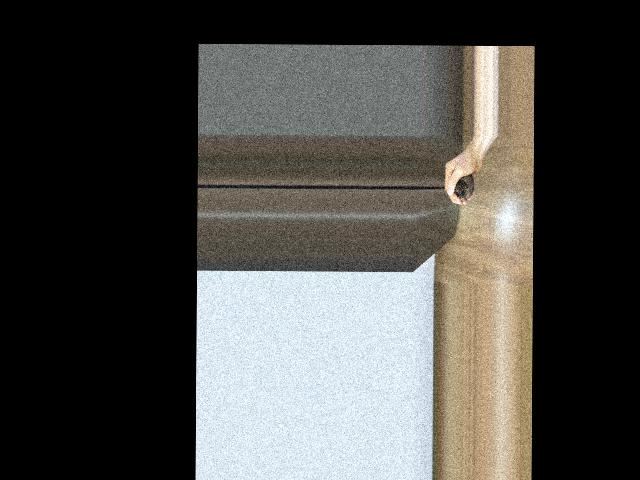beet: (435, 173, 474, 201)
